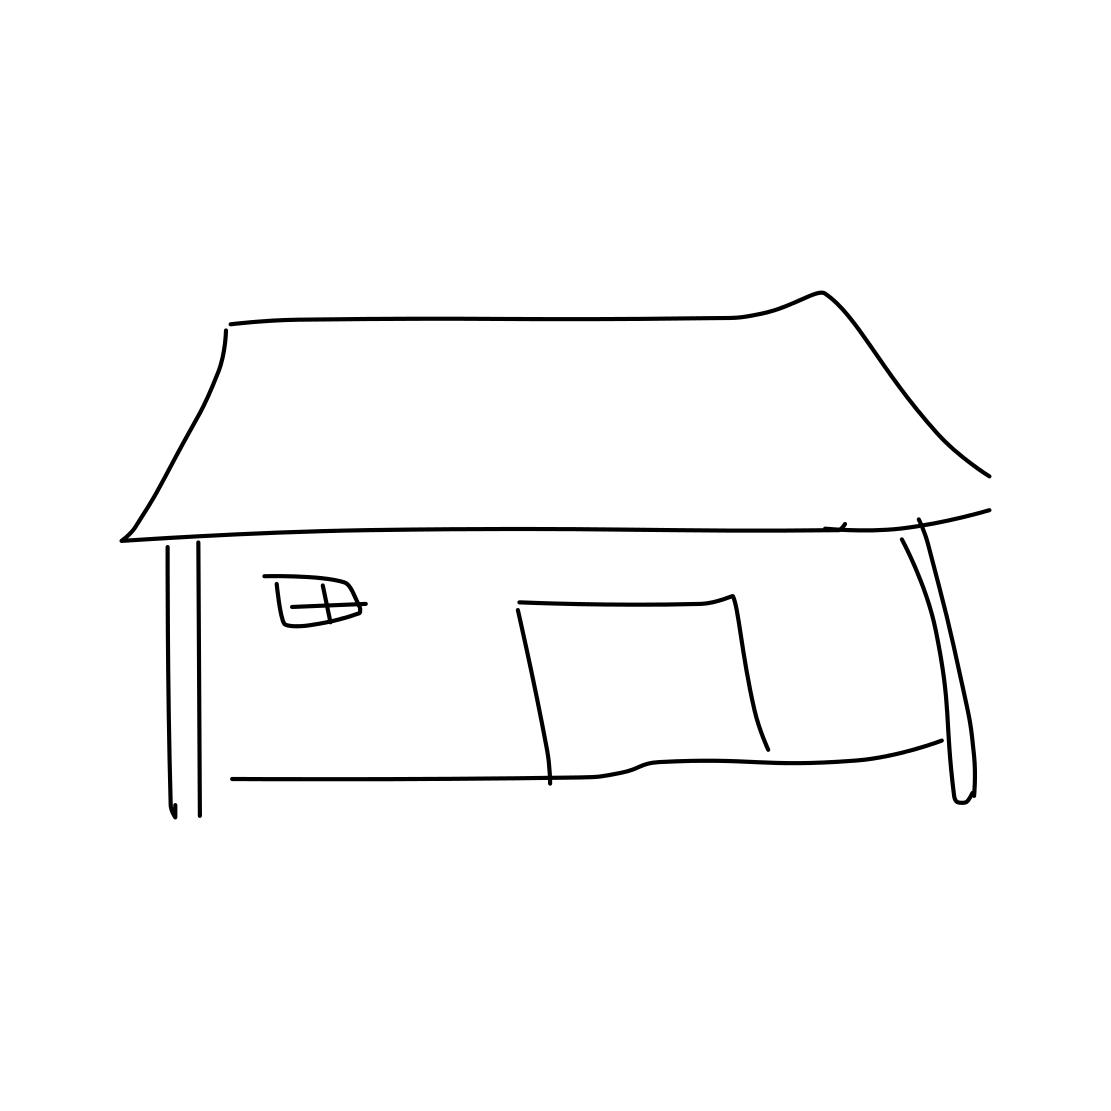House: (81, 262, 1027, 827)
